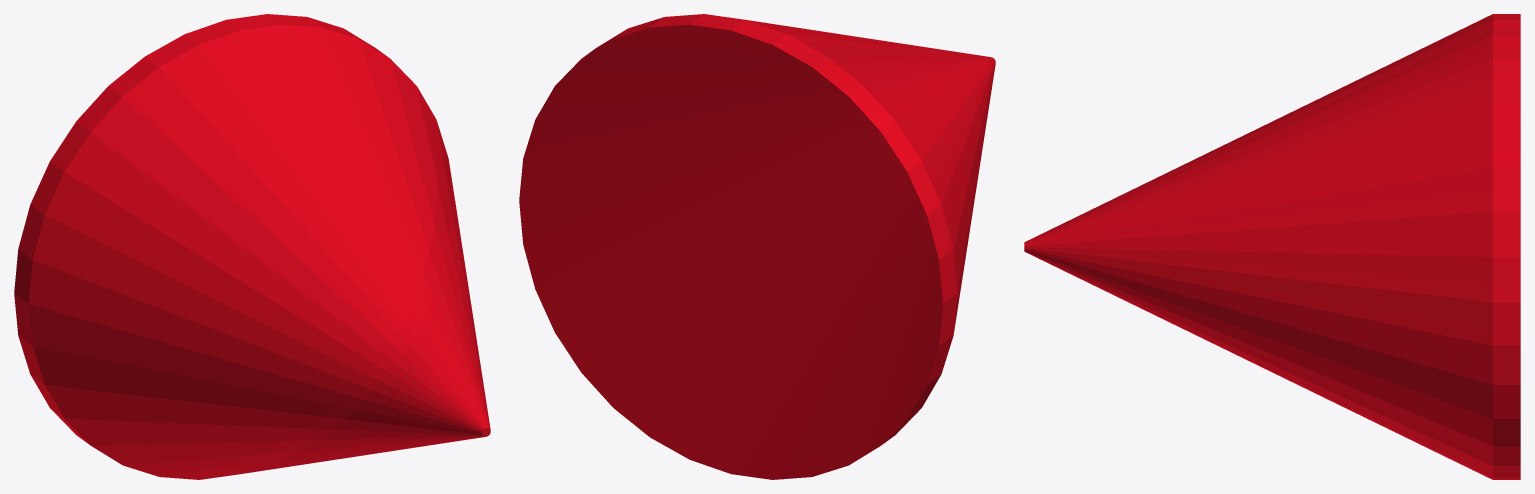
The model's file is RedCone.fbx.
3 views of the same model, side by side, from view 1: azimuth 30°, elevation 25°; view 2: azimuth 150°, elevation 25°; view 3: azimuth 270°, elevation 25° (orthographic). The views are drawn at different scales.
Parts seen in each view (by area): view 1: Cone; view 2: Cone; view 3: Cone.
Part boxes in pixels (x1=…): Cone: x1=14, y1=14, x2=490, y2=479; Cone: x1=519, y1=14, x2=995, y2=479; Cone: x1=1024, y1=14, x2=1520, y2=479.
Size of the model in its own units: 200 by 200 by 213.
